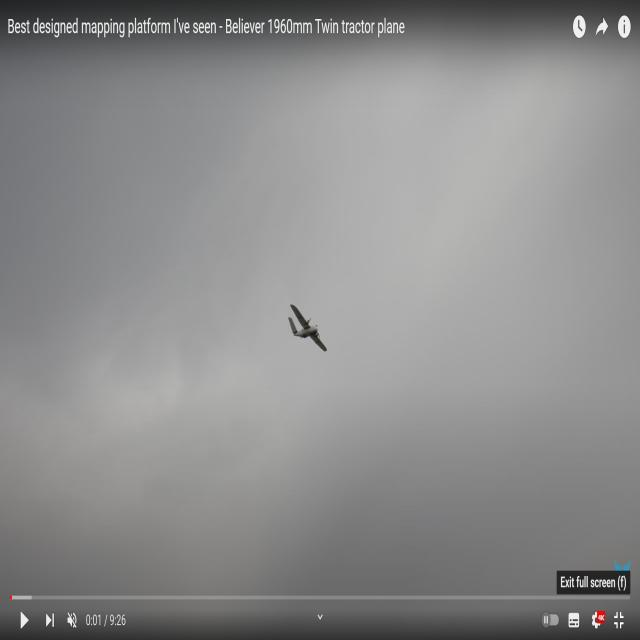iha: (286, 297, 331, 348)
